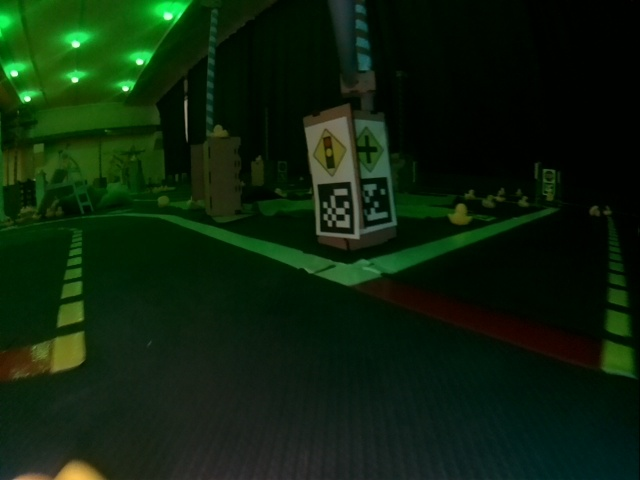Duckie: (451, 205, 471, 225), (213, 124, 228, 136), (482, 197, 491, 206), (521, 198, 529, 207), (466, 190, 473, 197), (591, 209, 597, 216), (496, 192, 501, 198)
Intersection sign: (354, 120, 389, 171)
QR code: (316, 182, 354, 233), (359, 177, 395, 223)
Signal sign: (312, 128, 348, 177)
